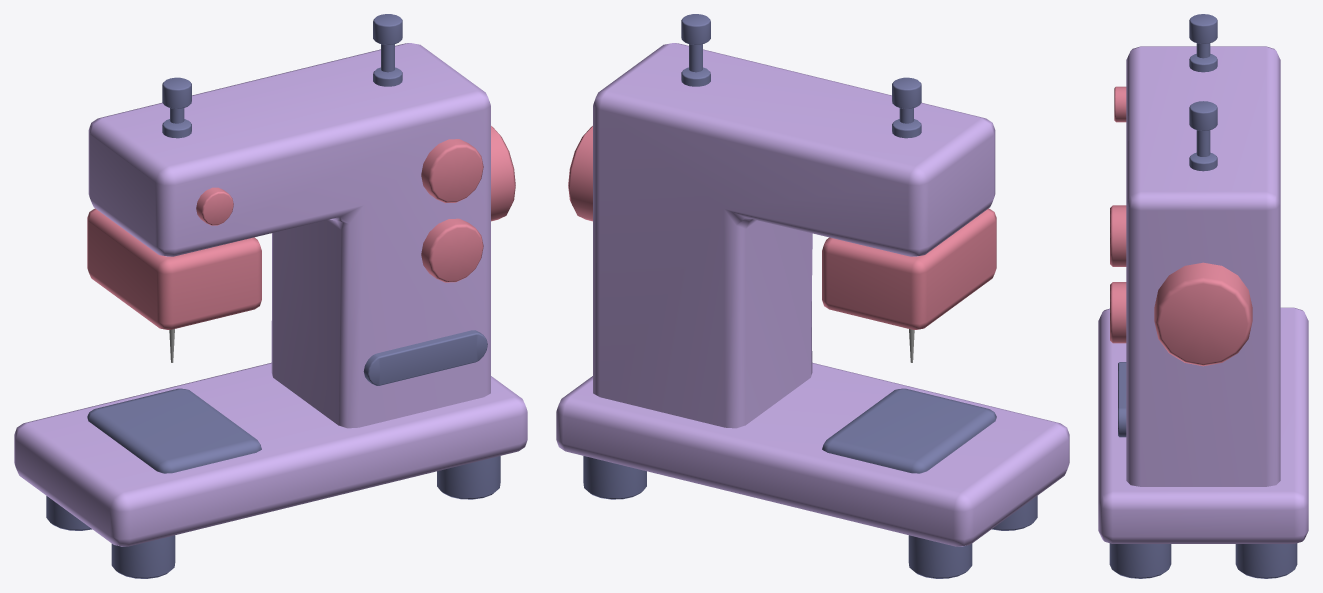
The model's file is Sewing_machine.glb.
3 renders of one model, left to right at view 1: azimuth 30°, elevation 25°; view 2: azimuth 150°, elevation 25°; view 3: azimuth 270°, elevation 25°, orthographic. The views are drawn at different scales.
Visible parts, largest first — view 1: Sewing_machine_1; view 2: Sewing_machine_1; view 3: Sewing_machine_1.
Part boxes in pixels (left/top/right/bottom): Sewing_machine_1: left=14, top=14, right=527, bottom=578; Sewing_machine_1: left=556, top=14, right=1069, bottom=578; Sewing_machine_1: left=1098, top=14, right=1308, bottom=578.
Bounding box in the file's own units: 0.7546 × 0.7639 × 0.3325.
1 material, 1 textured.
